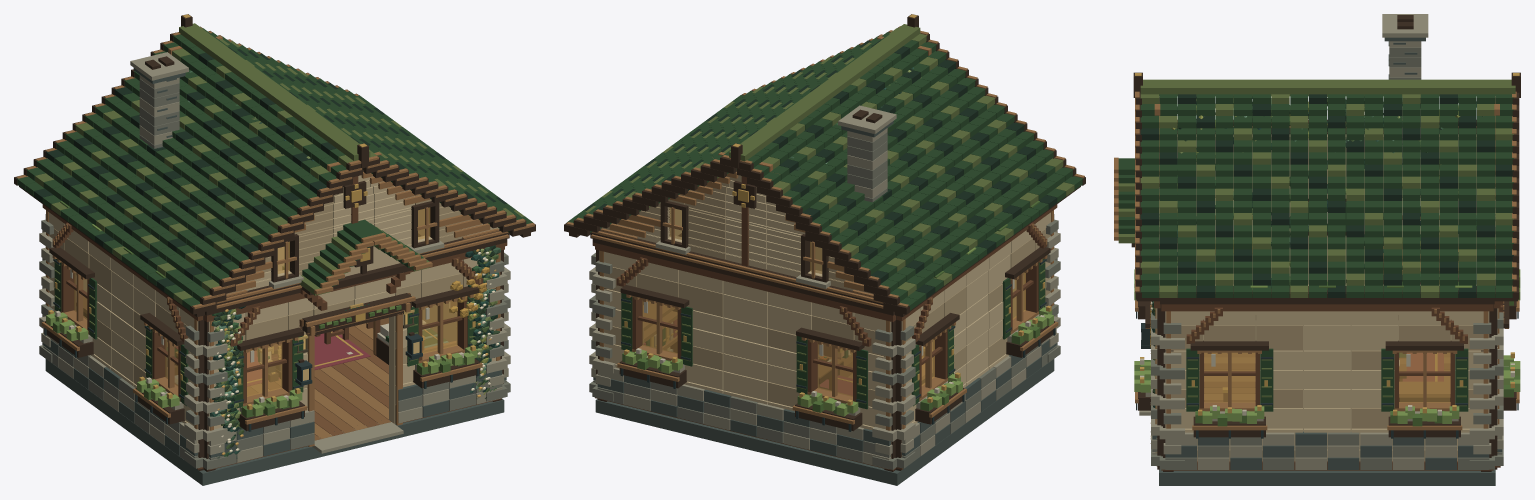
Rendered from deed-cottages-merchants.glb.
3 renders of one model, left to right at view 1: azimuth 30°, elevation 25°; view 2: azimuth 150°, elevation 25°; view 3: azimuth 270°, elevation 25°, orthographic. The views are drawn at different scales.
Visible parts, largest first — view 1: deed-house-greenwood-1-roof-shingles, deed-house-greenwood-1-shell-front, deed-house-greenwood-1-shell-left, deed-house-greenwood-1-interior-floor, deed-house-greenwood-1-roof-gable-front, deed-house-greenwood-1-roof-entry-gable, deed-house-greenwood-1-roof-chimneys, deed-house-greenwood-1-interior-furniture, deed-house-greenwood-1-roof-upper-front, deed-house-greenwood-1-shell-front-glass, deed-house-greenwood-2-shell-front-glass, deed-house-greenwood-4-shell-front-deed-garden (+5 smaller); view 2: deed-house-greenwood-1-roof-shingles, deed-house-greenwood-1-shell-back, deed-house-greenwood-1-shell-left, deed-house-greenwood-1-roof-gable-back, deed-house-greenwood-1-interior-floor, deed-house-greenwood-1-roof-upper-back, deed-house-greenwood-1-roof-chimneys, deed-house-greenwood-1-shell-back-glass, deed-house-greenwood-2-shell-back-glass, deed-house-greenwood-1-interior-furniture, deed-house-greenwood-1-shell-right; view 3: deed-house-greenwood-1-roof-shingles, deed-house-greenwood-1-shell-right, deed-house-greenwood-1-interior-floor, deed-house-greenwood-1-shell-right-glass, deed-house-greenwood-2-shell-right-glass, deed-house-greenwood-1-shell-front, deed-house-greenwood-1-shell-back, deed-house-greenwood-1-roof-chimneys, deed-house-greenwood-1-interior-furniture, deed-house-greenwood-1-roof-entry-gable, deed-house-greenwood-1-shell-left, deed-house-greenwood-1-roof-upper-right.
Boxes of the visible parts, bbox=[...] form: deed-house-greenwood-1-roof-shingles: bbox=[14, 14, 535, 316]; deed-house-greenwood-1-shell-front: bbox=[202, 243, 507, 471]; deed-house-greenwood-1-shell-left: bbox=[39, 204, 204, 470]; deed-house-greenwood-1-interior-floor: bbox=[45, 323, 504, 485]; deed-house-greenwood-1-roof-gable-front: bbox=[226, 152, 499, 297]; deed-house-greenwood-1-roof-entry-gable: bbox=[282, 219, 432, 310]; deed-house-greenwood-1-roof-chimneys: bbox=[130, 52, 188, 148]; deed-house-greenwood-1-interior-furniture: bbox=[76, 296, 456, 386]; deed-house-greenwood-1-roof-upper-front: bbox=[205, 229, 508, 315]; deed-house-greenwood-1-shell-front-glass: bbox=[247, 301, 456, 396]; deed-house-greenwood-2-shell-front-glass: bbox=[247, 302, 456, 395]; deed-house-greenwood-4-shell-front-deed-garden: bbox=[209, 251, 500, 458]; deed-house-greenwood-1-roof-shingles: bbox=[564, 14, 1085, 316]; deed-house-greenwood-1-shell-back: bbox=[592, 243, 897, 471]; deed-house-greenwood-1-shell-left: bbox=[895, 204, 1060, 470]; deed-house-greenwood-1-roof-gable-back: bbox=[600, 152, 873, 297]; deed-house-greenwood-1-interior-floor: bbox=[595, 342, 1054, 485]; deed-house-greenwood-1-roof-upper-back: bbox=[591, 229, 894, 315]; deed-house-greenwood-1-roof-chimneys: bbox=[838, 105, 896, 202]; deed-house-greenwood-1-shell-back-glass: bbox=[643, 301, 852, 396]; deed-house-greenwood-2-shell-back-glass: bbox=[643, 302, 852, 395]; deed-house-greenwood-1-interior-furniture: bbox=[643, 301, 932, 395]; deed-house-greenwood-1-shell-right: bbox=[589, 209, 681, 392]; deed-house-greenwood-1-roof-shingles: bbox=[1133, 72, 1520, 301]; deed-house-greenwood-1-shell-right: bbox=[1159, 304, 1494, 471]; deed-house-greenwood-1-interior-floor: bbox=[1159, 352, 1495, 485]; deed-house-greenwood-1-shell-right-glass: bbox=[1205, 353, 1449, 401]; deed-house-greenwood-2-shell-right-glass: bbox=[1205, 353, 1449, 401]; deed-house-greenwood-1-shell-front: bbox=[1134, 269, 1162, 469]; deed-house-greenwood-1-shell-back: bbox=[1491, 269, 1520, 469]; deed-house-greenwood-1-roof-chimneys: bbox=[1382, 14, 1428, 167]; deed-house-greenwood-1-interior-furniture: bbox=[1223, 246, 1476, 401]; deed-house-greenwood-1-roof-entry-gable: bbox=[1114, 157, 1177, 247]; deed-house-greenwood-1-shell-left: bbox=[1177, 147, 1476, 284]; deed-house-greenwood-1-roof-upper-right: bbox=[1160, 284, 1494, 304].
Size of the model in its own units: 11.73 by 10.55 by 11.27.
